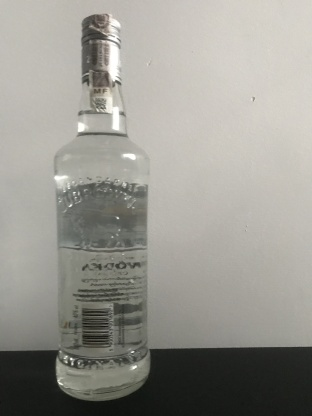nakretka: (79, 11, 124, 85)
